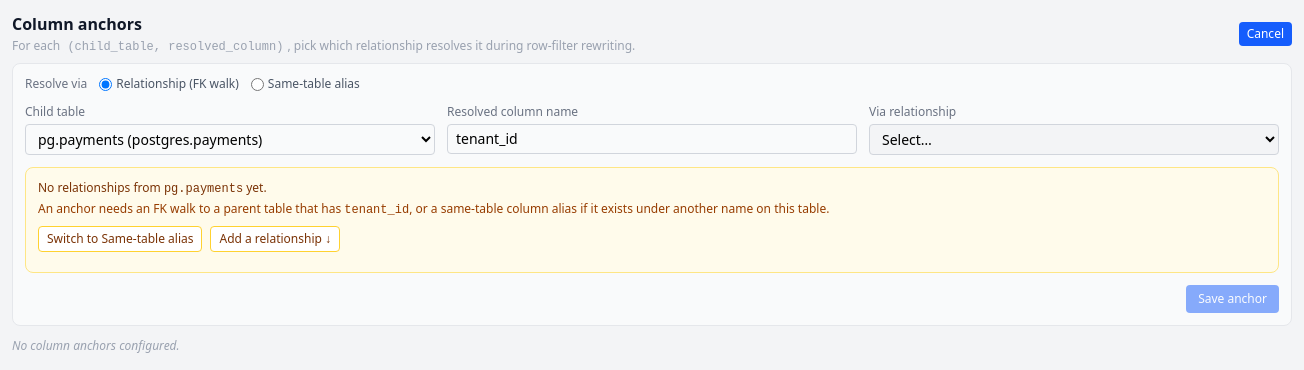
ColumnAnchorsSection — Topic 4b/4c: empty-state guidance › switches to alias mode when "Switch to Same-table alias" is clicked
Check: the element with test id "anchor-empty-state-guidance" is shown, box x1=25 y1=167 x2=1279 y2=273
Click the button "Switch to Same-table alias": {"x": 120, "y": 239} x1=38 y1=226 x2=202 y2=252
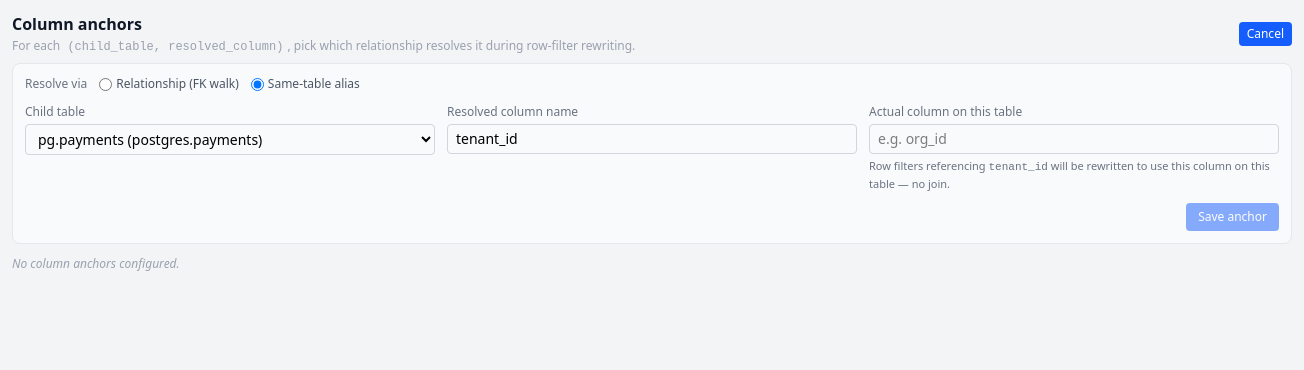
Check: the text "Actual column on this table" is shown, box x1=869 y1=103 x2=1022 y2=120
